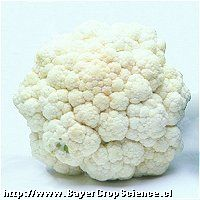cauliflower: (14, 21, 192, 182)
